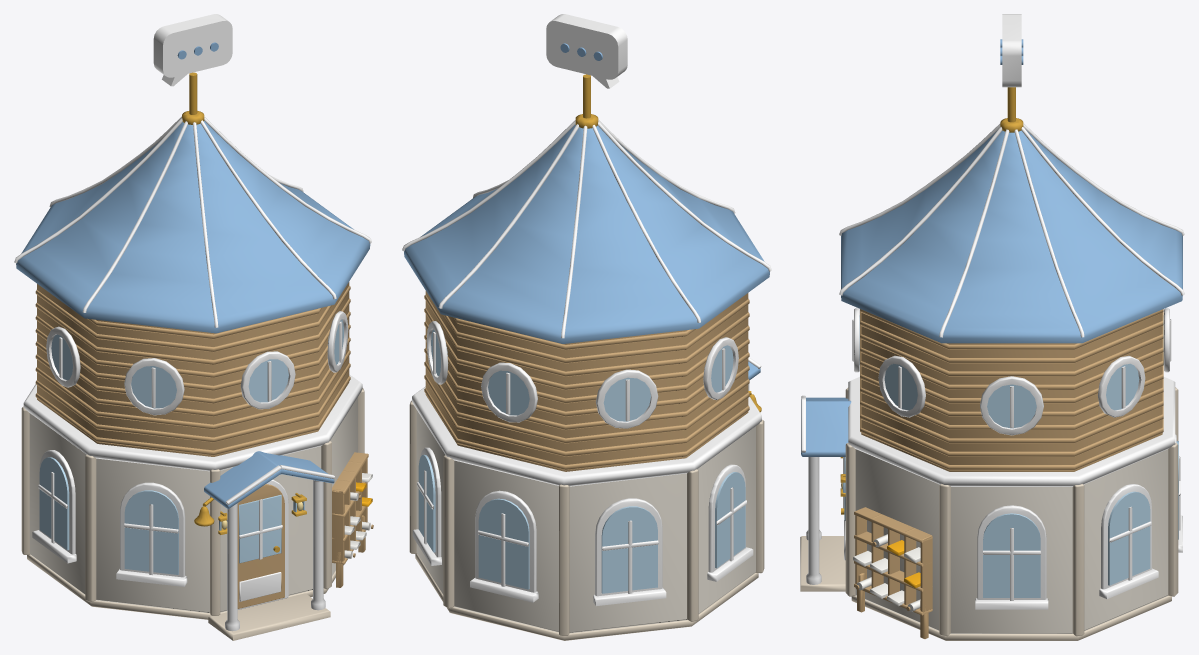
Rendered from works_chat.glb.
The picture shows the model from 3 angles, left to right: view 1: azimuth 30°, elevation 25°; view 2: azimuth 150°, elevation 25°; view 3: azimuth 270°, elevation 25°; orthographic projection. The views are drawn at different scales.
Visible parts, largest first — view 1: works_chat_structure; view 2: works_chat_structure; view 3: works_chat_structure.
Part boxes in pixels (x1,y1,x2,y2): works_chat_structure: (14,14,373,640); works_chat_structure: (402,14,771,640); works_chat_structure: (800,14,1184,640).
Bounding box in the file's own units: 5.4 × 9.4 × 5.99.
